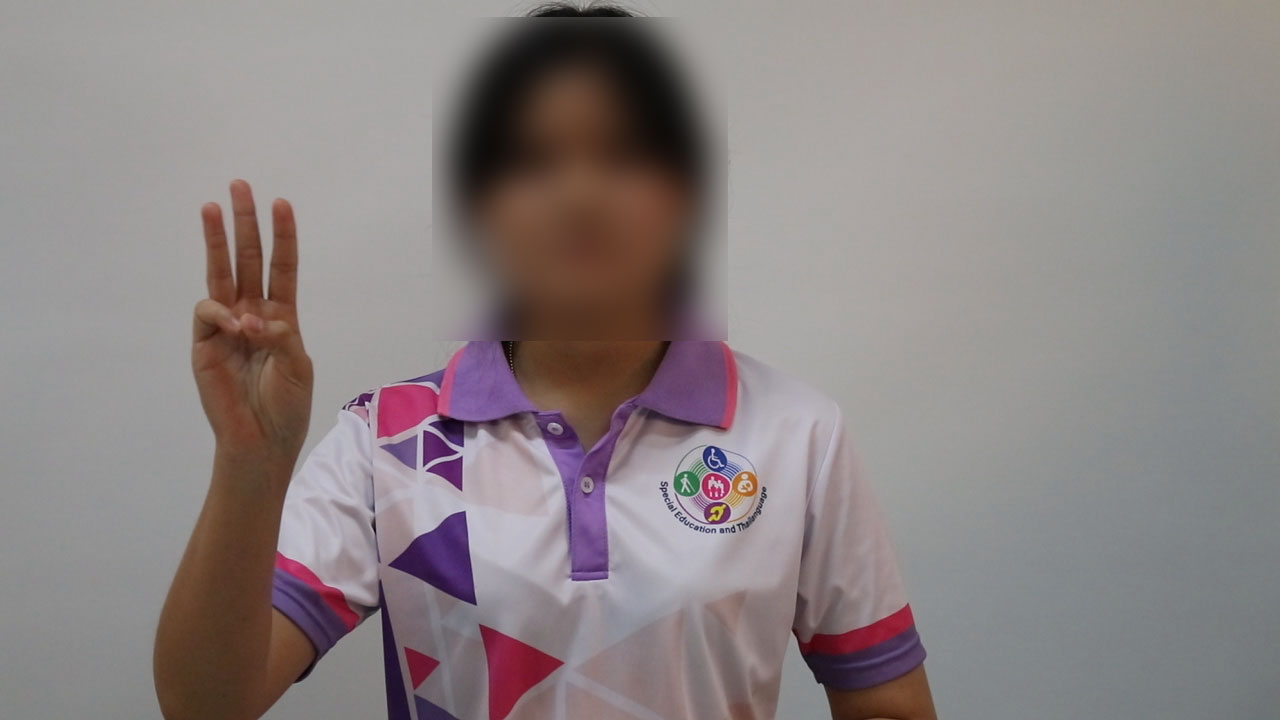wor: (183, 170, 332, 493)
